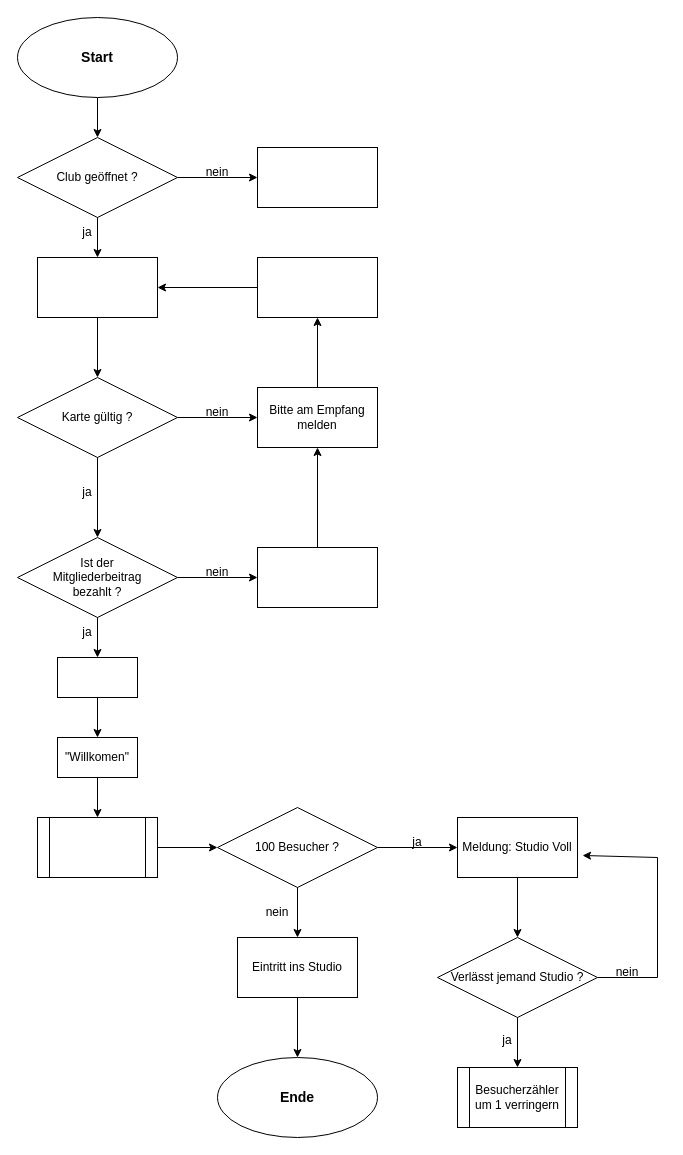
Some shapes in this 683 by 1155 pixel diagram are drawn without their labels. The shapes that lost their labels are listed below. From the top down, each one's centre as x and y in pixels, then its label:
At point (317, 177): "später wieder kommen".
At point (97, 287): "Karten Scan".
At point (317, 287): "Karte kaufen".
At point (317, 577): "Zugang verweigern".
At point (97, 677): "Drehkreuz freischalten".
At point (97, 847): "Besucherzähler um 1 erhöhen".
